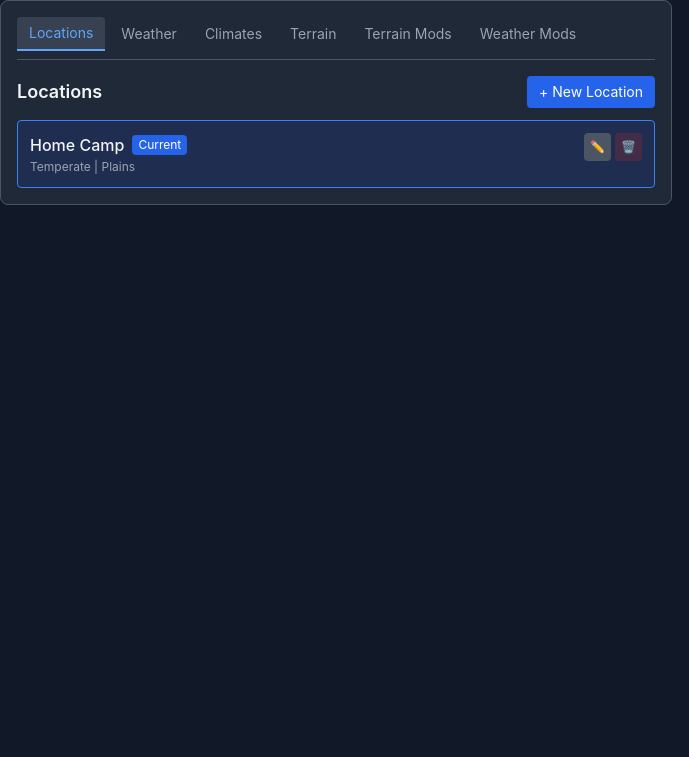
Test: LocationManager router › switches into create view and cancels back to the list
The width and height of the screenshot is (689, 757).
Click the button "+ New Location".
click(591, 92)  # box [527, 76, 655, 108]
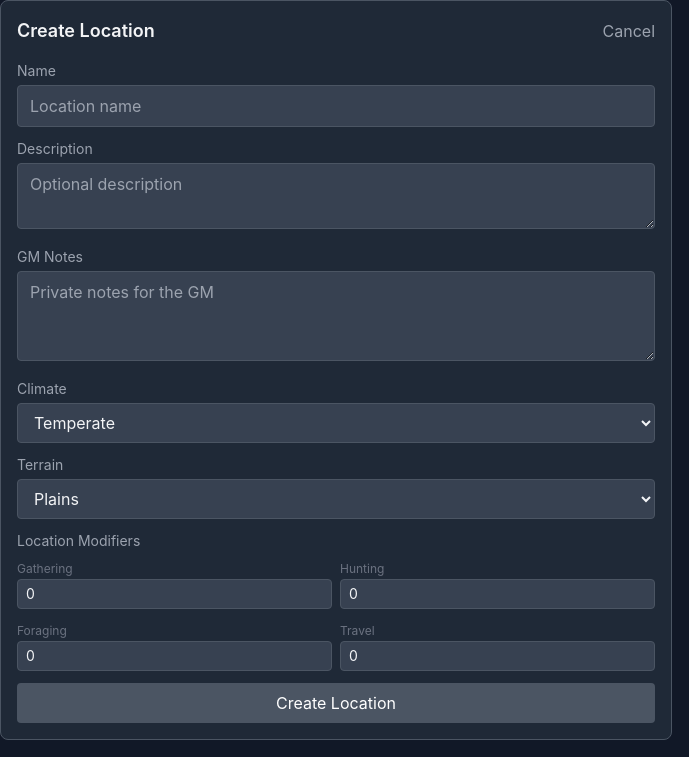
Check: the heading "Create Location" is shown, box [17, 17, 155, 45]
Click the button "Cancel".
click(629, 31)  # box [602, 19, 655, 43]
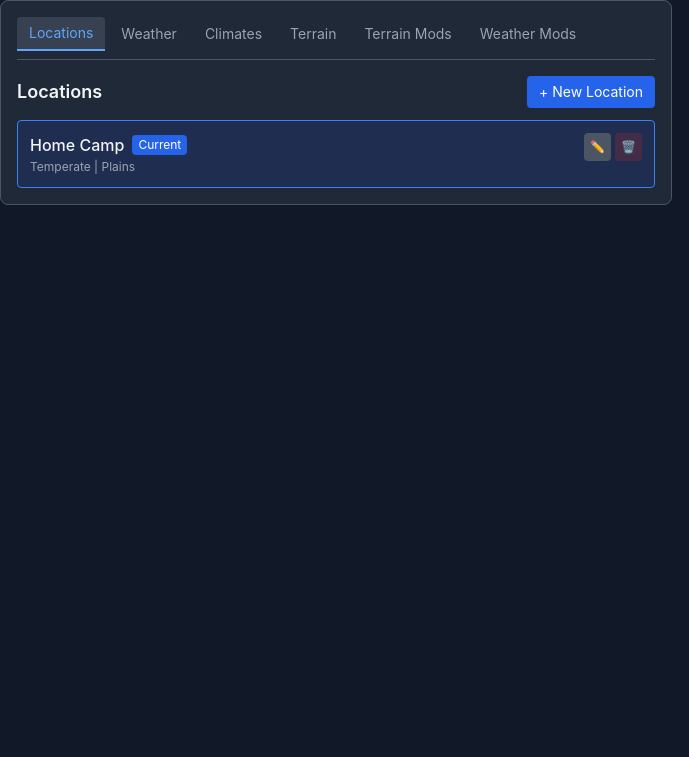
Check: the heading "Locations" is shown, box [17, 78, 102, 106]
